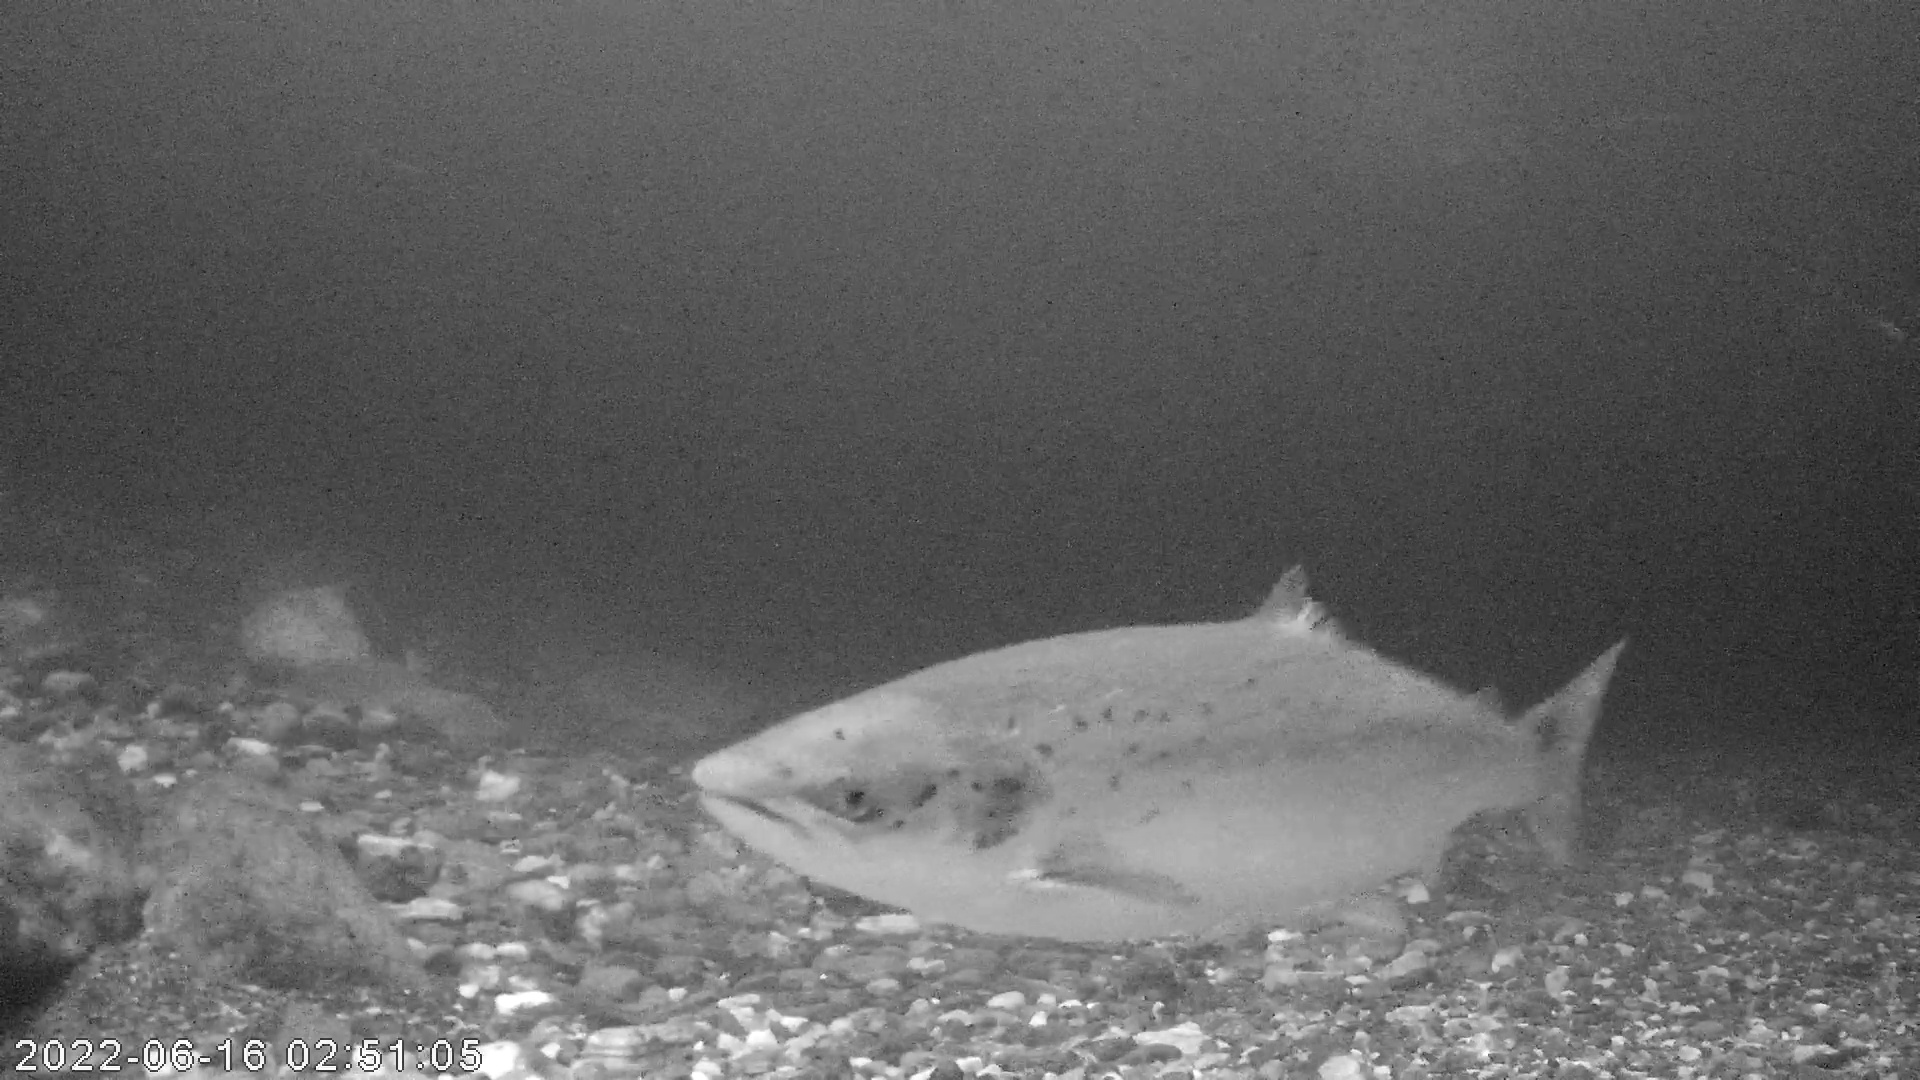salmon: (688, 556, 1631, 945)
